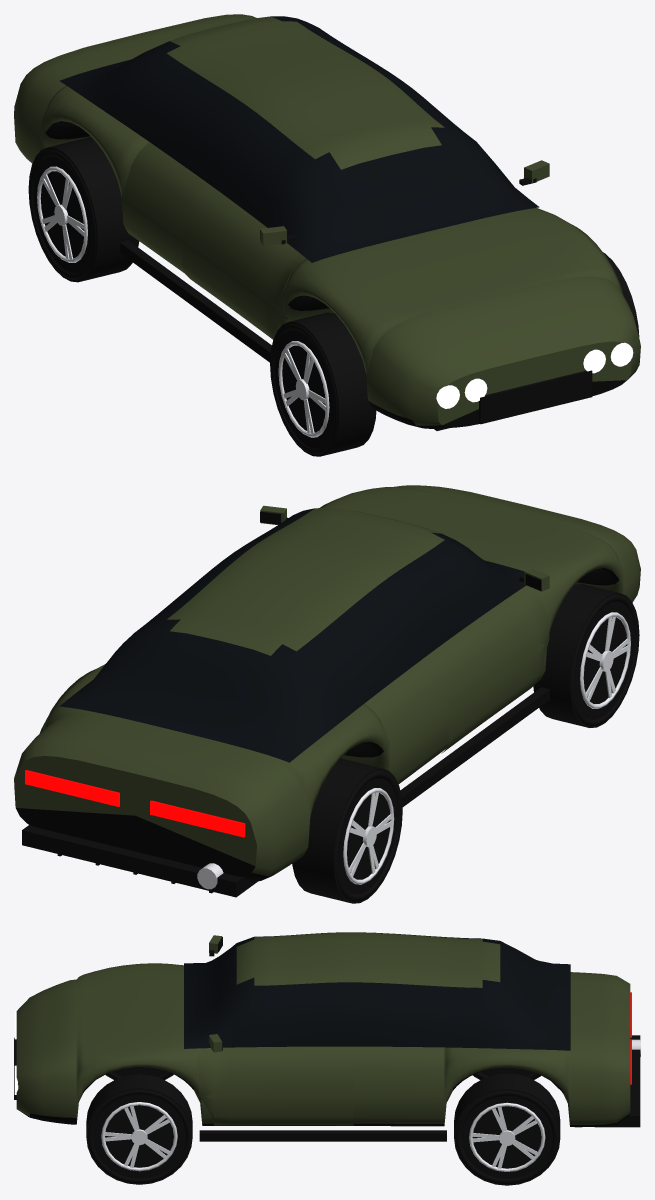
File: ranger.glb
3 renders of one model, top to bottom at view 1: azimuth 30°, elevation 25°; view 2: azimuth 150°, elevation 25°; view 3: azimuth 270°, elevation 25°, orthographic. The views are drawn at different scales.
Visible parts, largest first — view 1: Body, Cabin, Tire2, Tire4, Panel2, Details, Rim4, Rim2, HeadLights; view 2: Cabin, Body, Panel2, Tire4, Tire2, Details, TailLights, Rim2, Rim4; view 3: Body, Cabin, Panel, Tire3, Tire, Details, Rim3, Rim, Tire2, Tire4.
Part boxes in pixels (<box>): Body: <box>14,14,640,428</box>; Cabin: <box>59,16,539,262</box>; Tire2: <box>270,312,376,456</box>; Tire4: <box>28,137,139,282</box>; Panel2: <box>182,184,305,339</box>; Details: <box>120,160,592,430</box>; Rim4: <box>37,166,87,262</box>; Rim2: <box>278,341,329,437</box>; HeadLights: <box>436,342,633,408</box>; Cabin: <box>59,508,525,762</box>; Body: <box>14,485,640,882</box>; Panel2: <box>422,586,549,753</box>; Tire4: <box>292,758,402,903</box>; Tire2: <box>533,584,639,727</box>; Details: <box>22,505,549,897</box>; TailLights: <box>25,770,245,837</box>; Rim2: <box>580,612,630,708</box>; Rim4: <box>343,788,394,884</box>; Body: <box>16,963,630,1127</box>; Cabin: <box>184,932,570,1050</box>; Panel: <box>199,1046,353,1125</box>; Tire3: <box>454,1073,560,1185</box>; Tire: <box>86,1074,192,1184</box>; Details: <box>14,935,640,1141</box>; Rim3: <box>469,1102,545,1171</box>; Rim: <box>101,1102,177,1171</box>; Tire2: <box>105,1067,173,1079</box>; Tire4: <box>472,1067,541,1079</box>.
Size of the model in its own units: 2.19 by 1.54 by 4.95.
